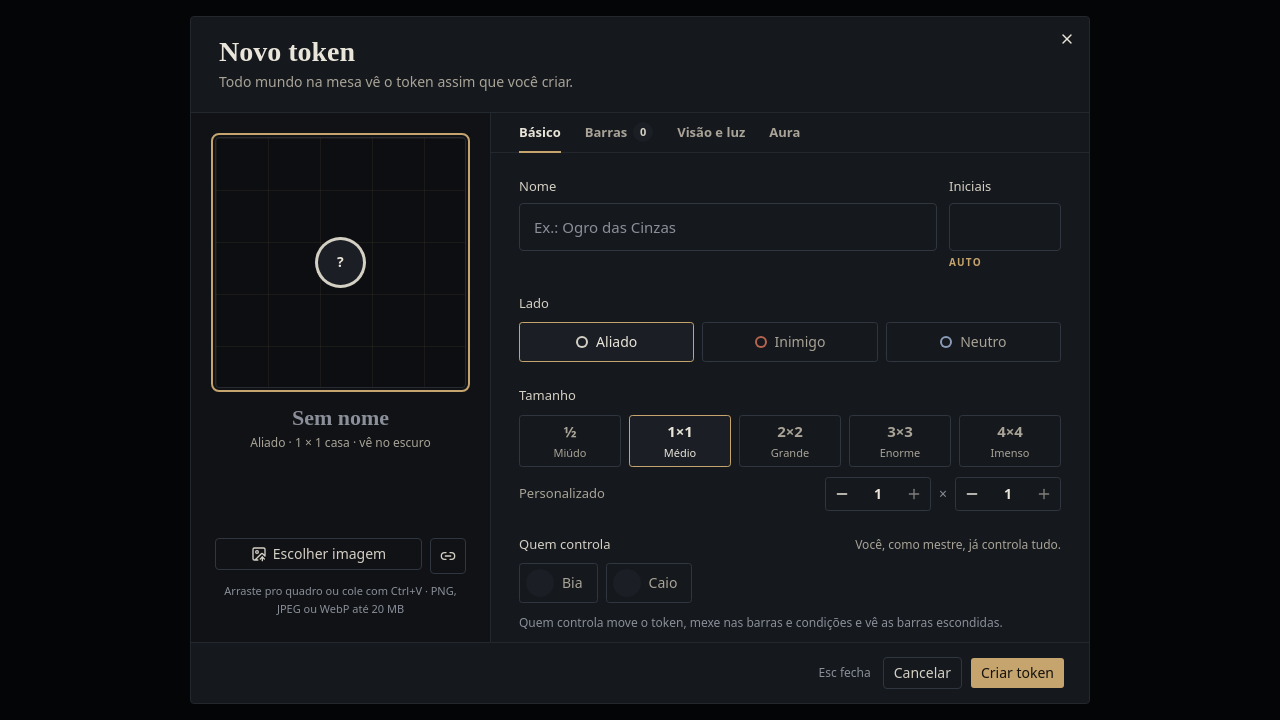
Scenario: TokenDialog, the shell › choosing "Inimigo" turns the summary of the preview into "Inimigo · 1 × 1 casa"
Step 1. Click the radio button labelled "Inimigo" → (790, 342), box [702,322,878,362]
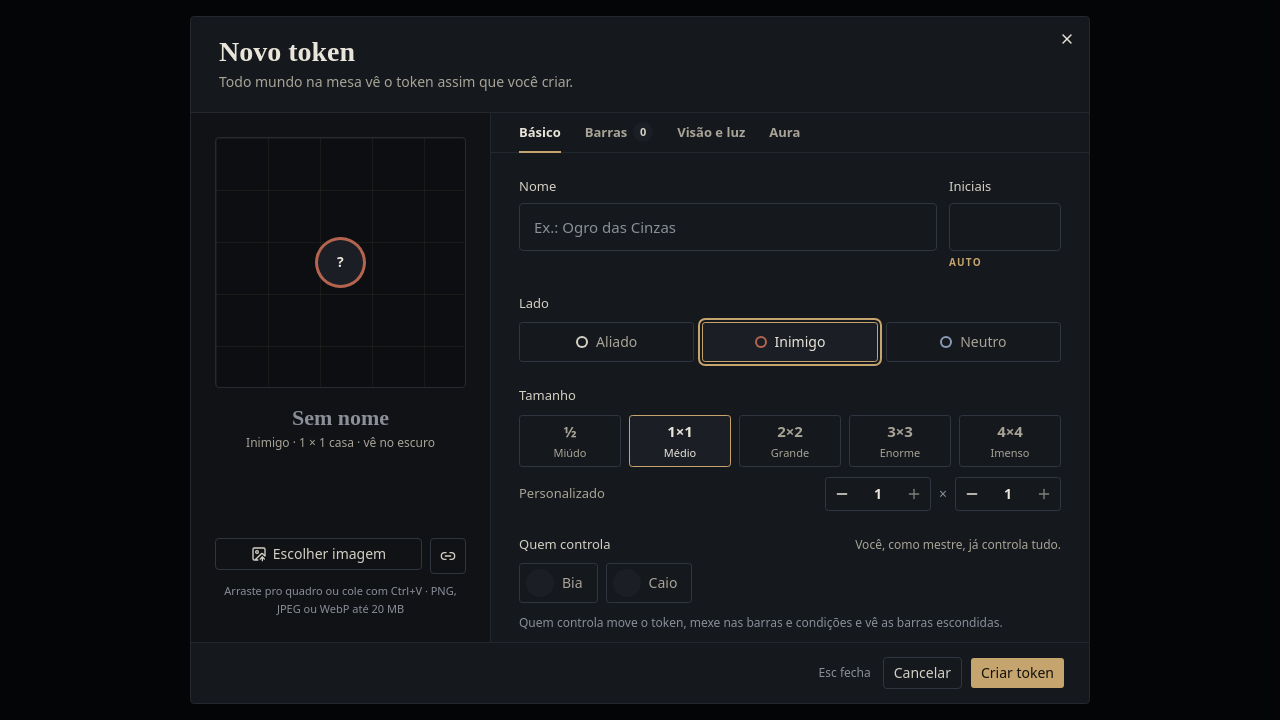
Expected: the text "Inimigo · 1 × 1 casa · vê no escuro" is shown, [246,434,435,451]
